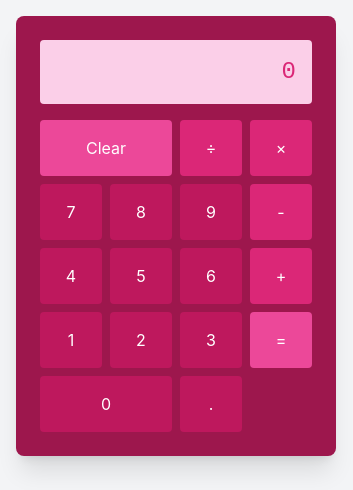
Calculator.vue › should clear the display
// Click en el botón "7"
Click the button "7" at (71, 212), box [40,184,102,240]
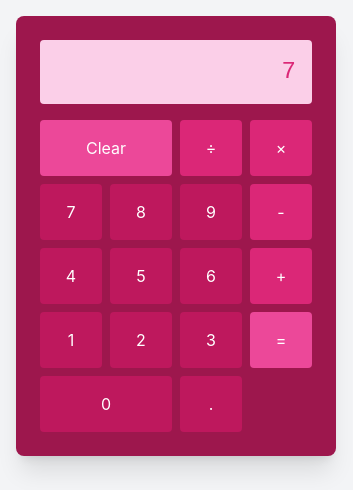
// Click en el botón "Clear"
Click the button "Clear" at (106, 148), box [40,120,172,176]
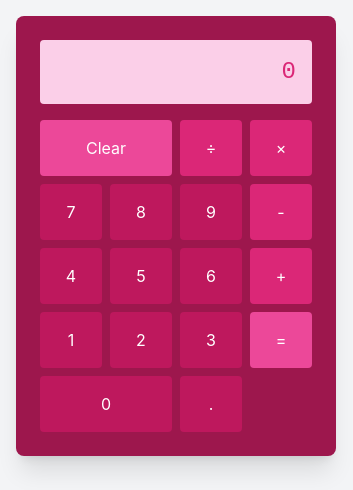
Now the text "0" is shown, box [282,58,296,85]
